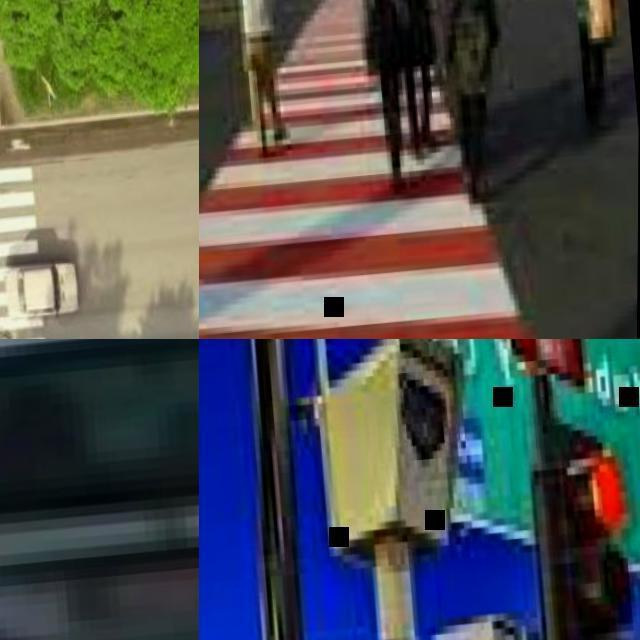car: (355, 0, 632, 200)
